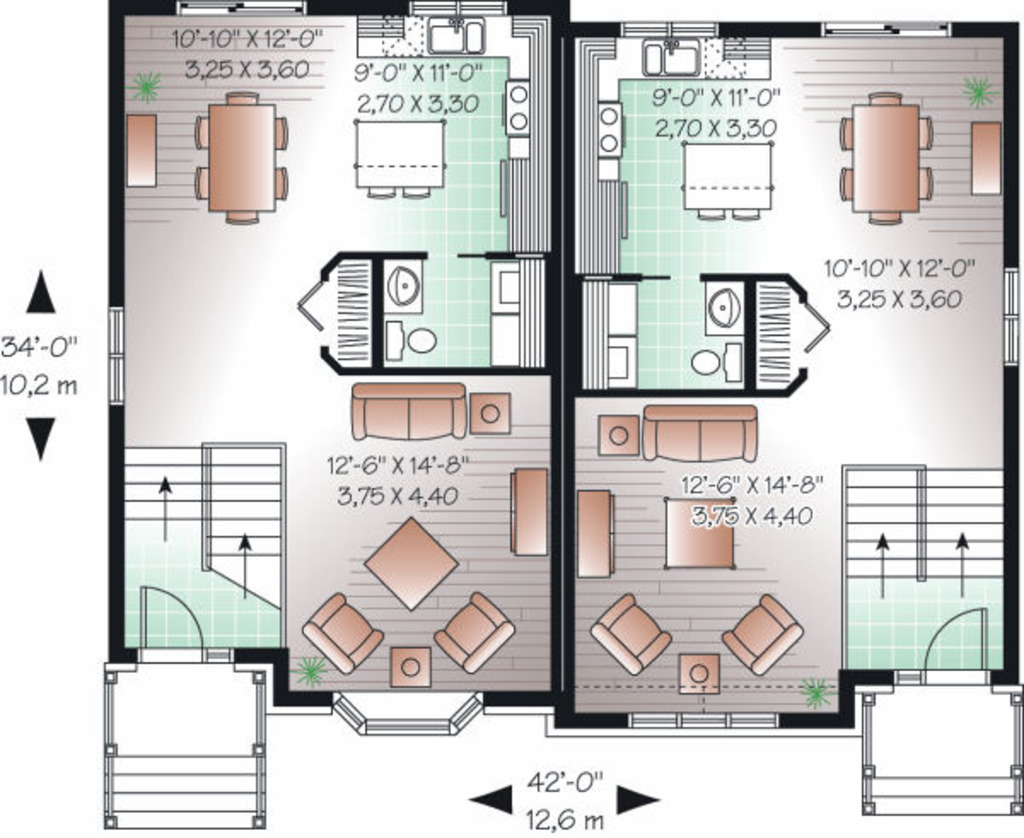dining_table: (192, 81, 305, 228), (838, 86, 948, 236)
door: (126, 573, 221, 669), (912, 595, 995, 695)
kitchen_bar: (342, 101, 468, 217), (666, 129, 778, 227)
large_sink: (369, 317, 443, 367), (685, 345, 741, 385)
large_sofa: (335, 379, 472, 449), (633, 403, 768, 471)
small_sink: (370, 260, 425, 314), (699, 277, 747, 338)
small_sofa: (713, 582, 807, 681), (305, 582, 391, 685), (433, 592, 518, 680), (590, 590, 673, 676)
stairs: (829, 453, 1011, 679), (117, 445, 272, 650)
twin_sink: (625, 30, 705, 86), (412, 15, 494, 59)
window: (326, 693, 483, 743), (628, 708, 787, 734), (96, 302, 133, 401), (999, 262, 1021, 366), (828, 21, 963, 36)
